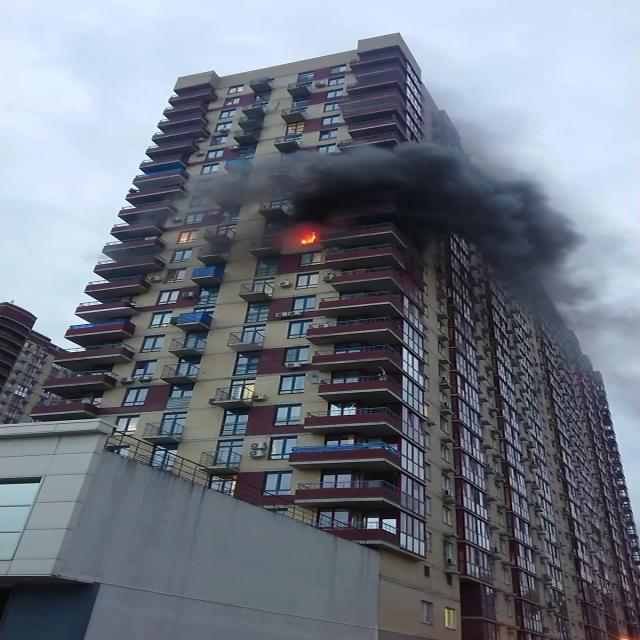Fire: (290, 226, 324, 248), (607, 630, 639, 640)
Smoke: (193, 138, 464, 224), (427, 165, 593, 298)
